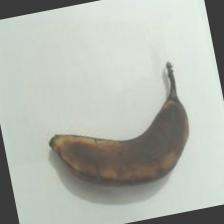Banana Rotten: (29, 92, 216, 206)
